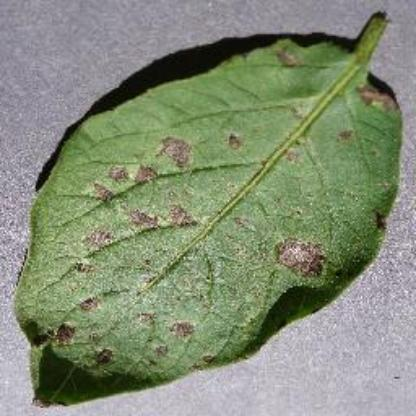Early-Blight: (15, 6, 416, 412)
